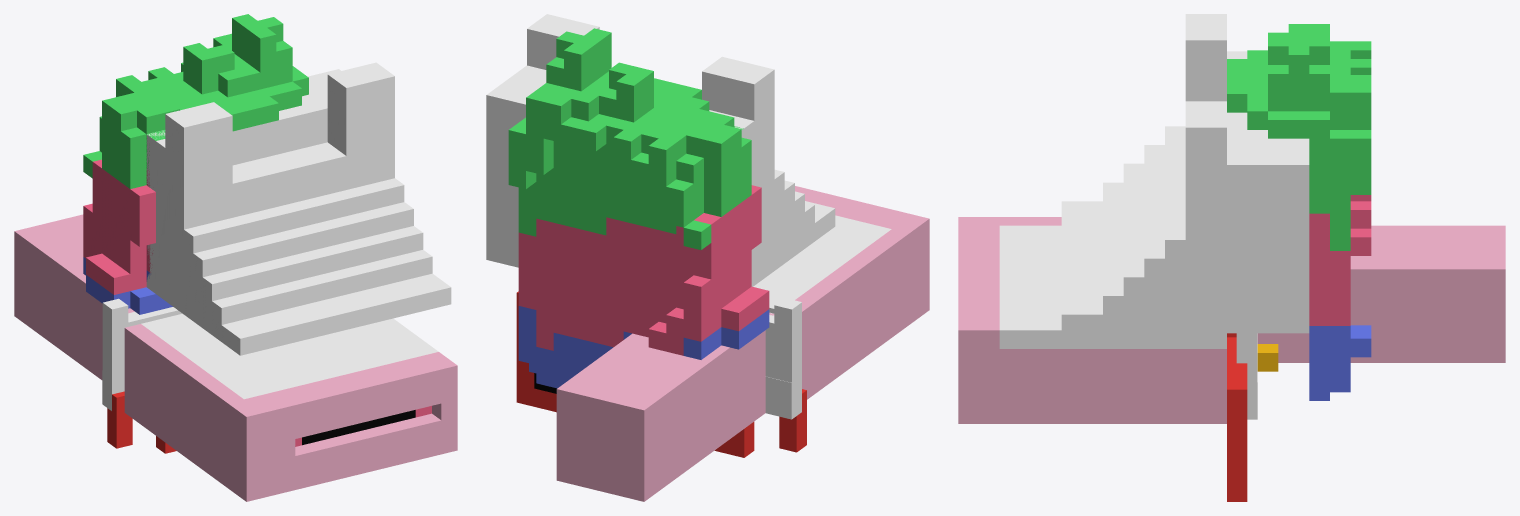
Rendered from unicorn.glb.
3 views of the same model, side by side, from view 1: azimuth 30°, elevation 25°; view 2: azimuth 150°, elevation 25°; view 3: azimuth 270°, elevation 25° (orthographic). The views are drawn at different scales.
Parts seen in each view (by area): view 1: base-2, base, hair, nose-2, hear-top, layer-1, hear, monture, layer-2; view 2: hair, nose-2, base, base-2, hear-top, monture, layer-1, layer-3, layer-0; view 3: base-2, base, hair, nose-2, hear-top, monture, layer-1, layer-2, horn-2.
Part boxes in pixels (x1,y1,x2,y2): base-2: (146, 69, 451, 355); base: (124, 313, 457, 501); hair: (83, 14, 308, 314); nose-2: (14, 214, 134, 379); hear-top: (165, 62, 394, 144); layer-1: (102, 298, 181, 394); hear: (200, 97, 378, 191); monture: (107, 391, 176, 453); layer-2: (102, 320, 111, 376); hair: (508, 28, 769, 388); nose-2: (556, 312, 774, 501); base: (753, 186, 929, 399); base-2: (486, 47, 835, 286); hear-top: (527, 14, 774, 102); monture: (516, 291, 806, 457); layer-1: (765, 298, 801, 415); layer-3: (765, 377, 797, 419); layer-0: (765, 376, 797, 401); base-2: (1061, 51, 1309, 333); base: (958, 217, 1226, 423); hair: (1227, 24, 1371, 400); nose-2: (1257, 225, 1505, 362); hear-top: (1185, 14, 1226, 146); monture: (1227, 333, 1247, 501); layer-1: (1236, 333, 1257, 419); layer-2: (1236, 333, 1257, 418); horn-2: (1257, 344, 1278, 371).
Bounding box in the file's own units: 16 × 22 × 26.5.
20 materials, 20 textured.
